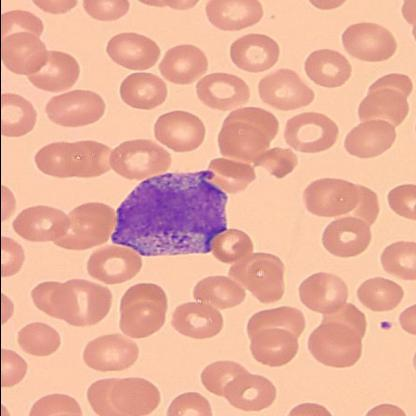Promyelocyte: (112, 168, 230, 257)
